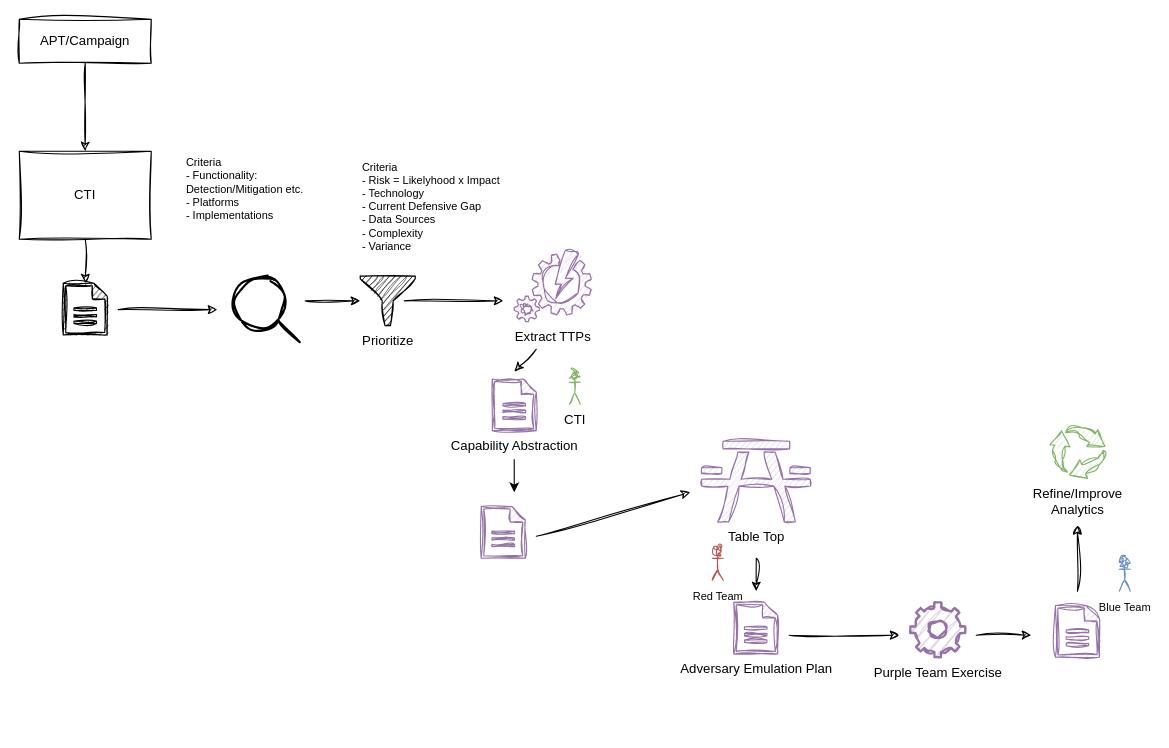
Image size: 1169x748. Some labels were removed from this diagram. Here are the shapes that lost their labels. From the top down, the centre of each, then its label:
pixel 84 308: CTI Blueprint
pixel 266 308: Defensive Scope
pixel 502 531: High Level Plan
pixel 1076 630: Results - Benign vs. malicious - Refine Hypothesis - Confidence
